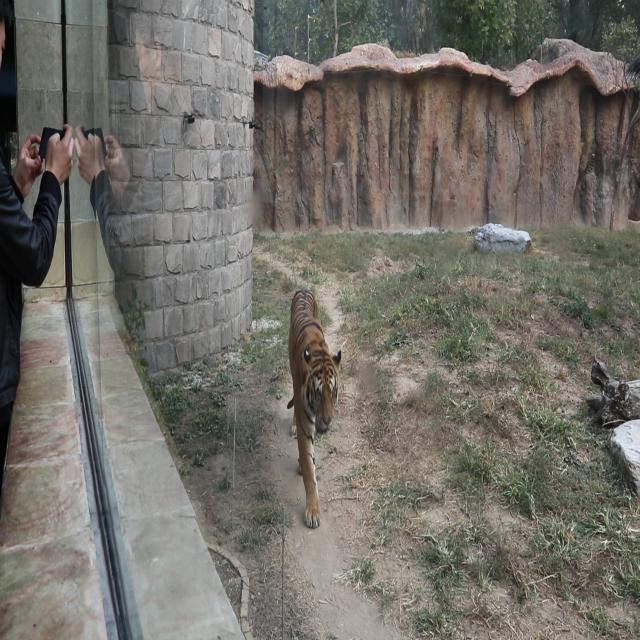Tiger: (278, 259, 352, 553)
